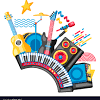Piano: (11, 48, 81, 97)
